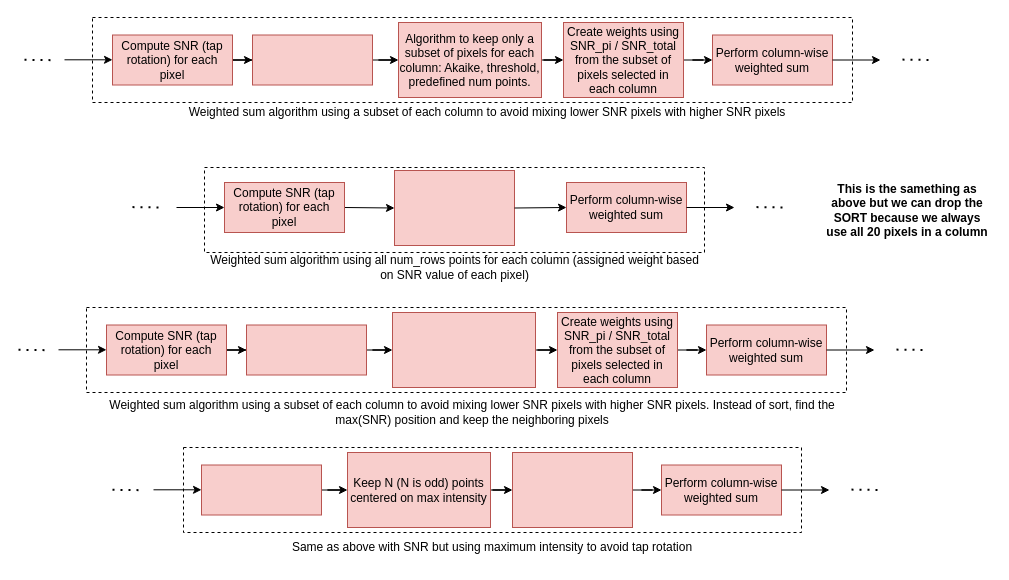
Image size: 1009x580. Some labels were removed from this diagram. The centre of each missing label's shape, as x and y in pixels:
"Create weights based on local illumination profile" goes at point (572, 490).
"Create weights using SNR_pi / SNR_total for each pixel, column-wise" goes at point (454, 208).
"Find where max(A_0 + B_0 + C_0 + A_1 + B_1 + C_1) is" goes at point (261, 489).
"Find where max(SNR) is" goes at point (306, 349).
"Keep N (N is odd) points centered on max SNR" goes at point (464, 350).
"Sort each column in descending order of SNR" goes at point (312, 59).
